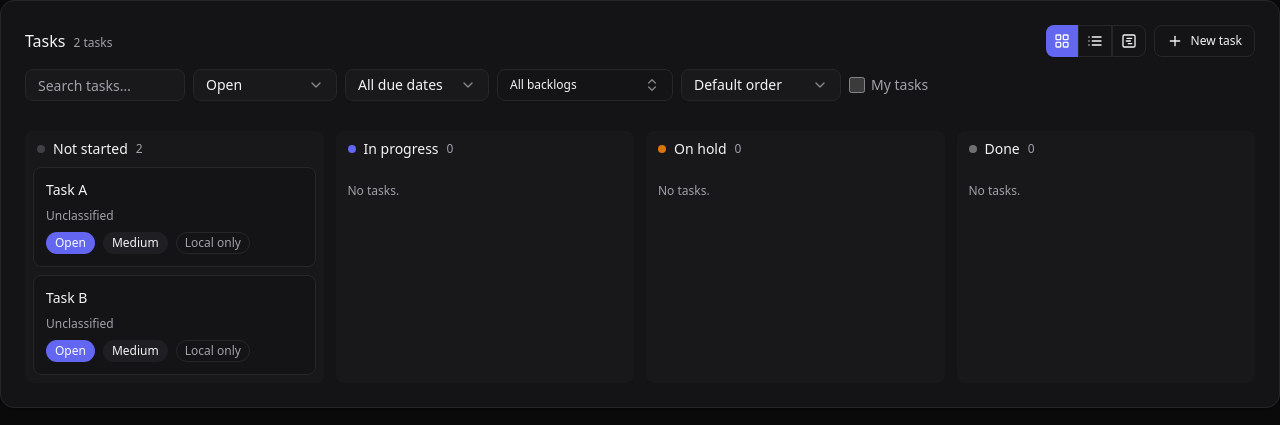
Scenario: TaskListSection › Bulk actions (issue #149) › selects and deselects every visible task with the top-level select-all checkbox
Click the button named "List": [1095, 41] box [1078, 25, 1112, 57]
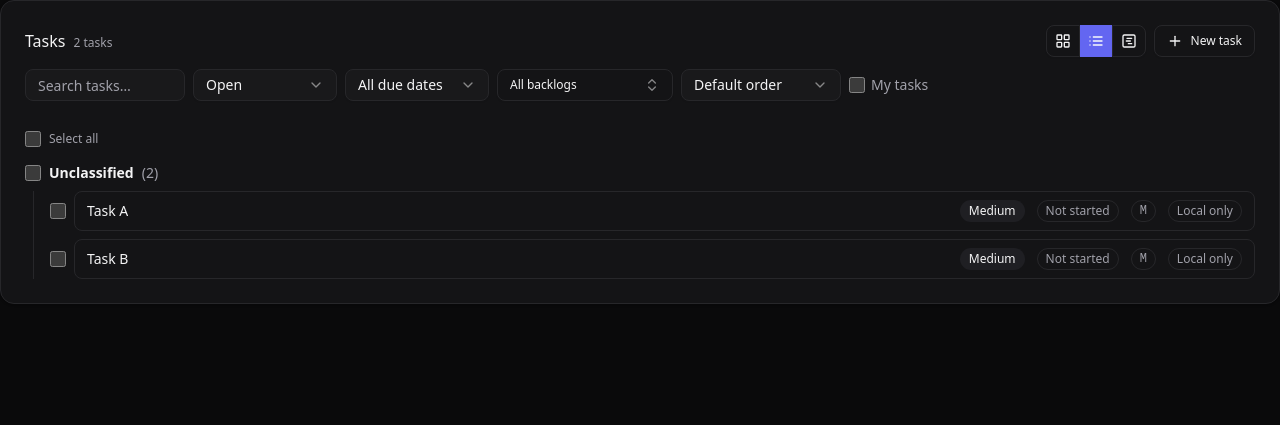
Click the checkbox named "Select all tasks": [33, 139] box [25, 131, 41, 147]
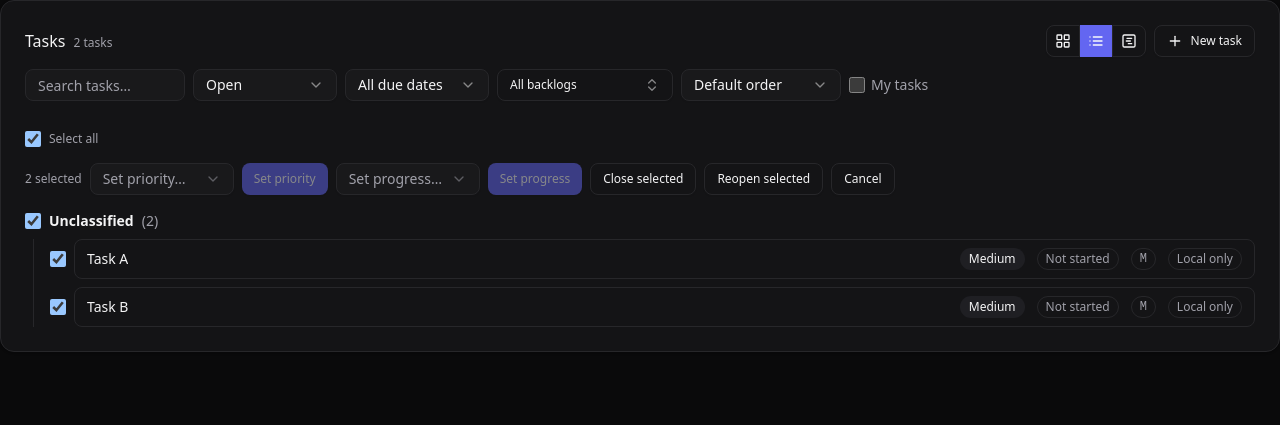
Expected: the text "2 selected" is shown, [25, 171, 82, 187]
Expected: the checkbox named "Select Task A" is checked, [50, 251, 66, 267]
Expected: the checkbox named "Select Task B" is checked, [50, 299, 66, 315]
Click the checkbox named "Select all tasks": [33, 139] box [25, 131, 41, 147]
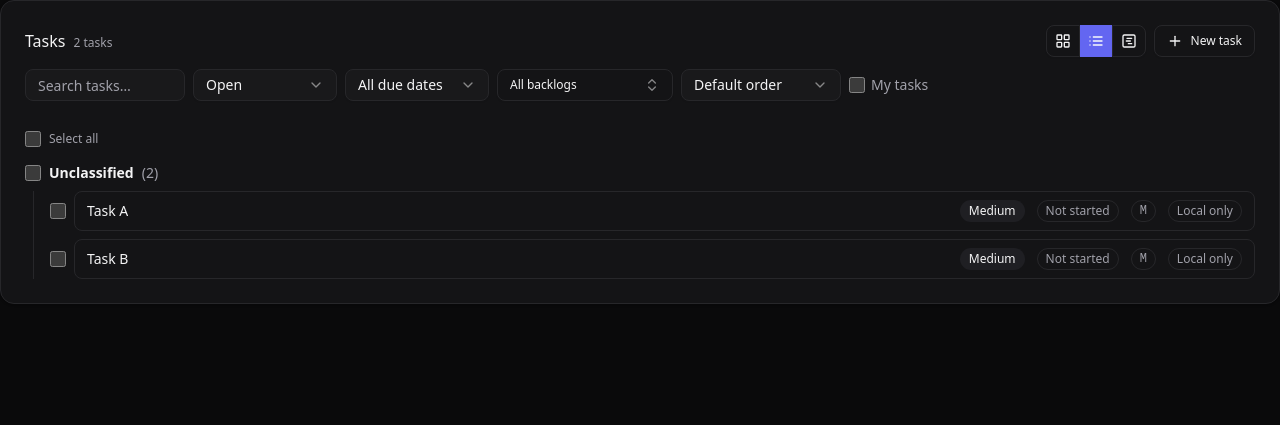
Expected: the text "selected" is gone
